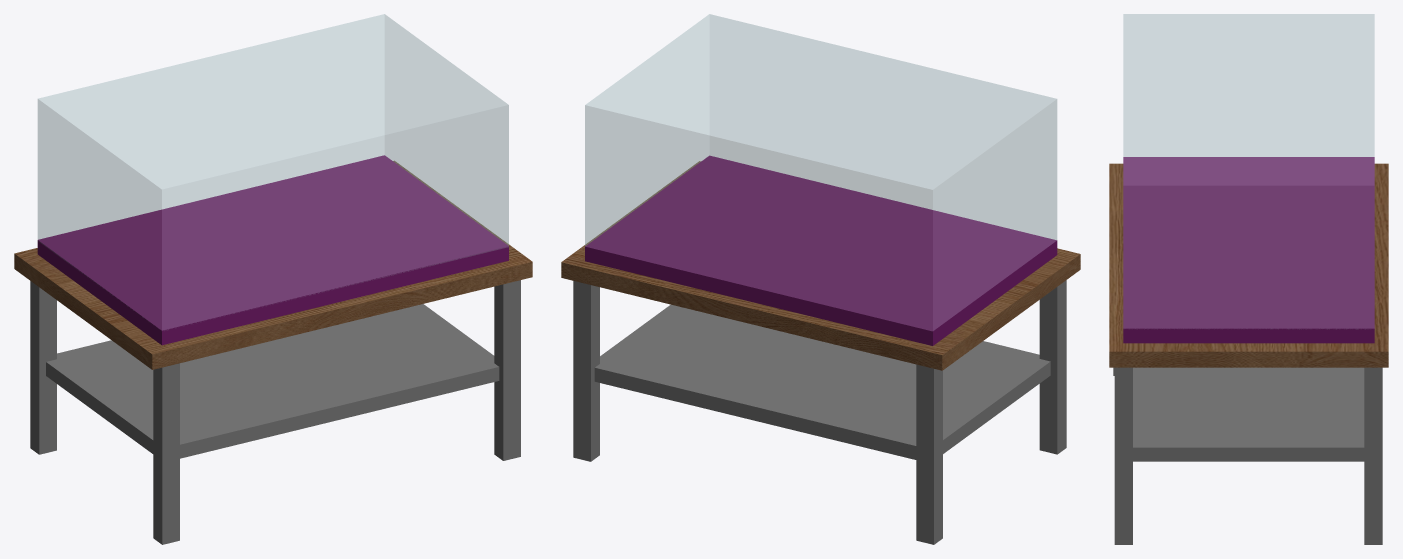
Rendered from Shrimp.fbx.
3 views of the same model, side by side, from view 1: azimuth 30°, elevation 25°; view 2: azimuth 150°, elevation 25°; view 3: azimuth 270°, elevation 25° (orthographic).
Parts seen in each view (by area): view 1: Cube.121, Cube.120, Cube.126, Cube.127, Cube.125, Cube.122, Cube.124; view 2: Cube.121, Cube.120, Cube.126, Cube.127, Cube.124, Cube.123, Cube.125; view 3: Cube.121, Cube.120, Cube.126, Cube.127, Cube.123, Cube.122.
Boxes of the visible parts, x1,y1,x2,y2 form: Cube.121: (37,14,508,330); Cube.120: (37,155,508,345); Cube.126: (46,304,499,458); Cube.127: (14,160,532,369); Cube.125: (153,363,179,544); Cube.122: (494,280,520,460); Cube.124: (30,281,56,454); Cube.121: (585,14,1057,330); Cube.120: (585,155,1057,345); Cube.126: (594,304,1050,459); Cube.127: (561,161,1080,370); Cube.124: (916,364,942,544); Cube.123: (573,281,599,461); Cube.125: (1039,280,1066,454); Cube.121: (1123,14,1374,328); Cube.120: (1123,157,1374,343); Cube.126: (1133,367,1364,461); Cube.127: (1109,163,1388,367); Cube.123: (1364,367,1382,544); Cube.122: (1114,367,1132,544).
Bounding box in the file's own units: 861 × 759 × 541.
Materials: 6 (2 with a texture image).
